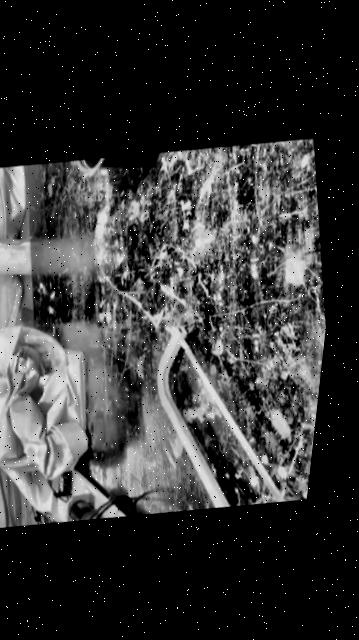pot: (75, 154, 155, 173)
